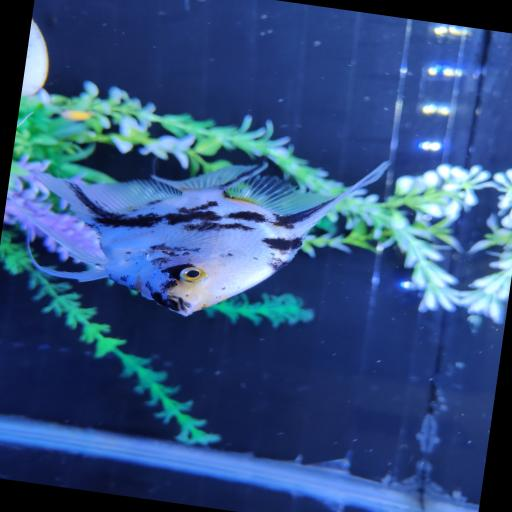Fish: (27, 161, 387, 315)
